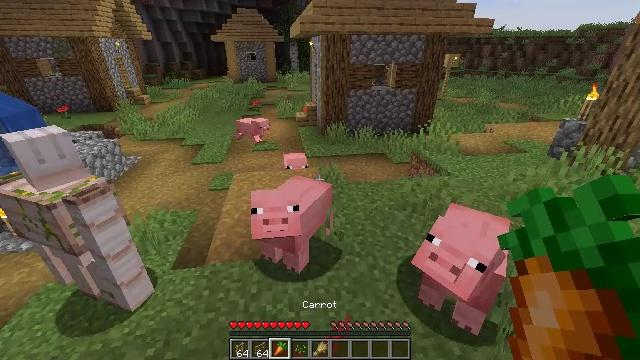pig: (416, 201, 516, 330), (250, 176, 334, 270), (238, 118, 270, 143), (284, 152, 309, 171)
